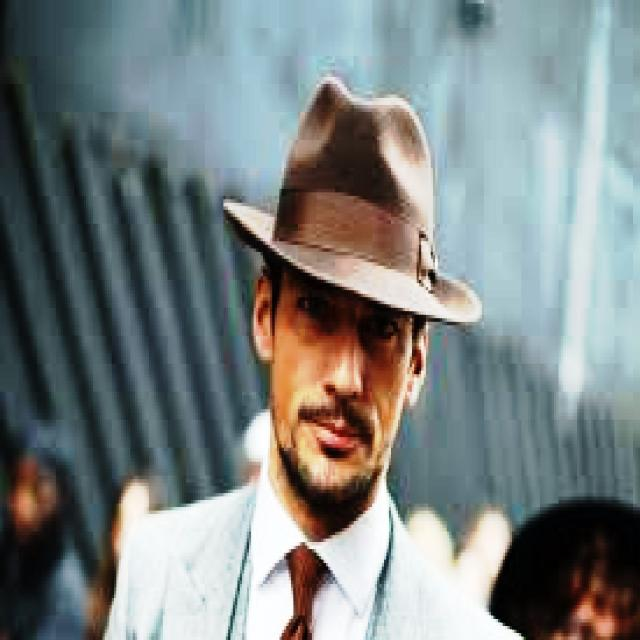TOPI: (214, 63, 484, 332)
